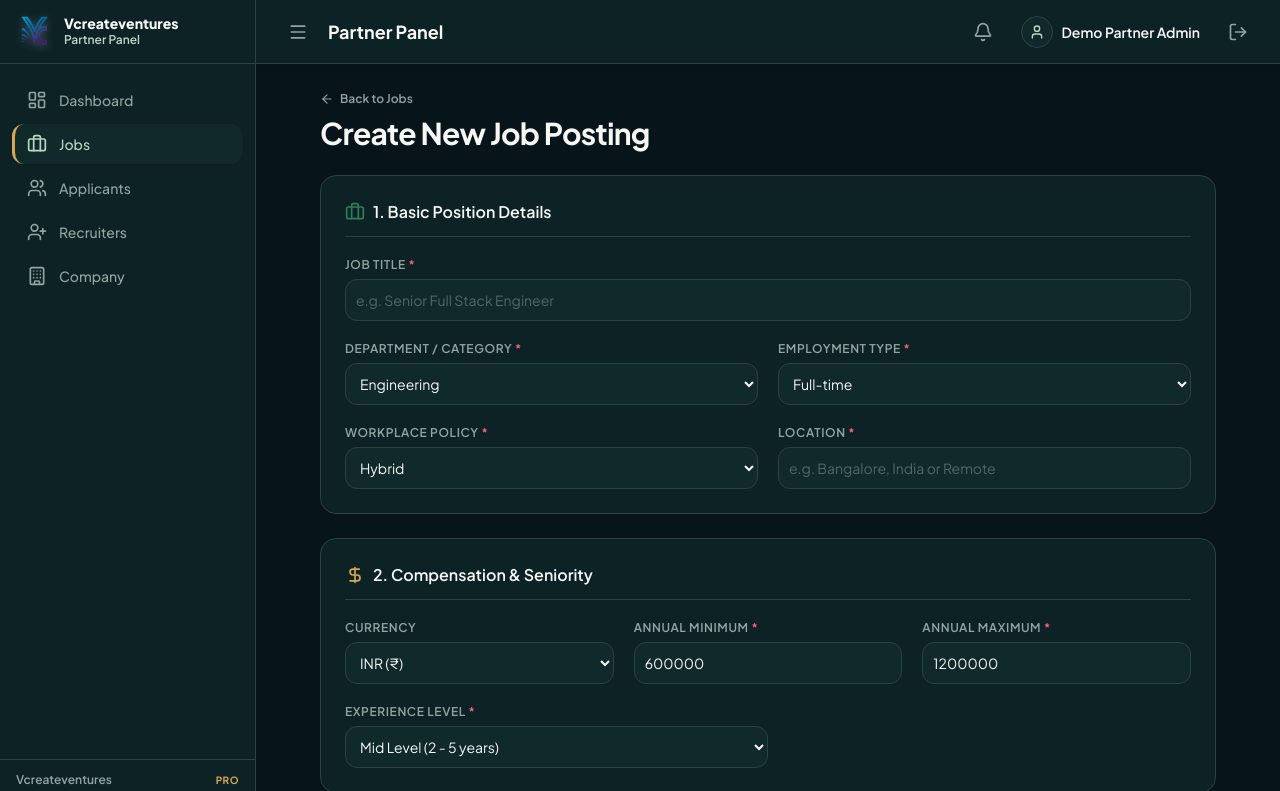
Test: routes rendering test › shows backend validation details when job creation fails
Type "Platform Engineer" into the field with placeholder "e.g. Senior Full Stack Engineer". click: (768, 300)
box: top-left (345, 279), bottom-right (1191, 321)
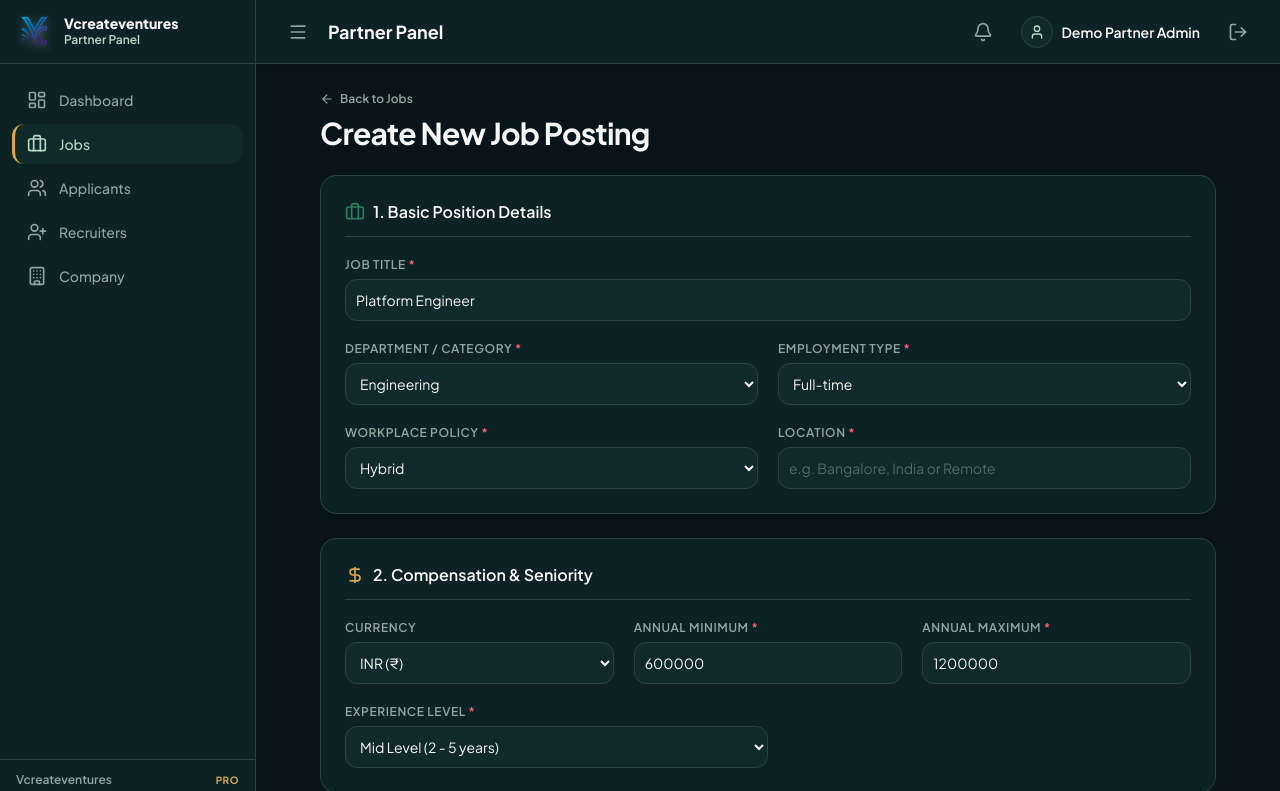
Type "Delhi" into the field with placeholder "e.g. Bangalore, India or Remote". click: (984, 468)
box: top-left (778, 447), bottom-right (1191, 489)
(page scrolled)
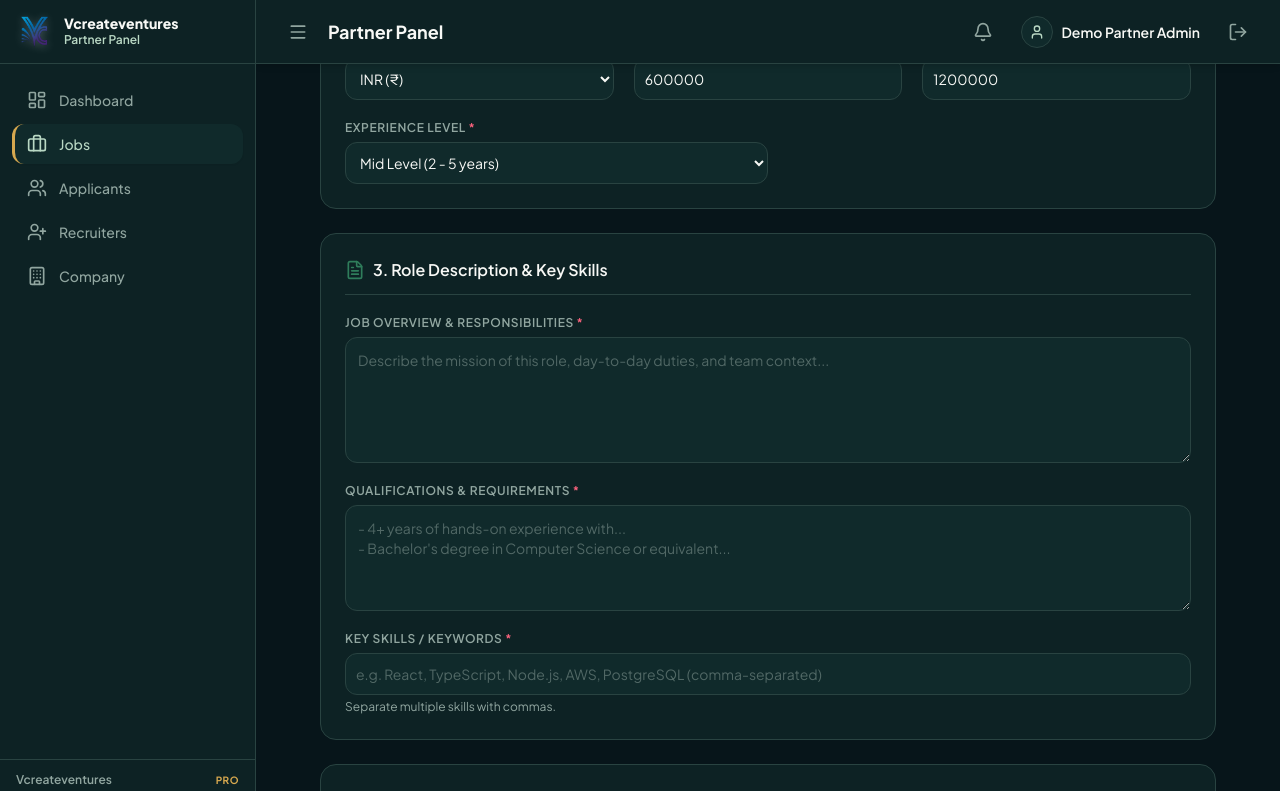
Replace the text in the text box with placeholder "Describe the mission of this role" with "Build and maintain platform services for customers.". click: (768, 400)
box: top-left (345, 337), bottom-right (1191, 463)
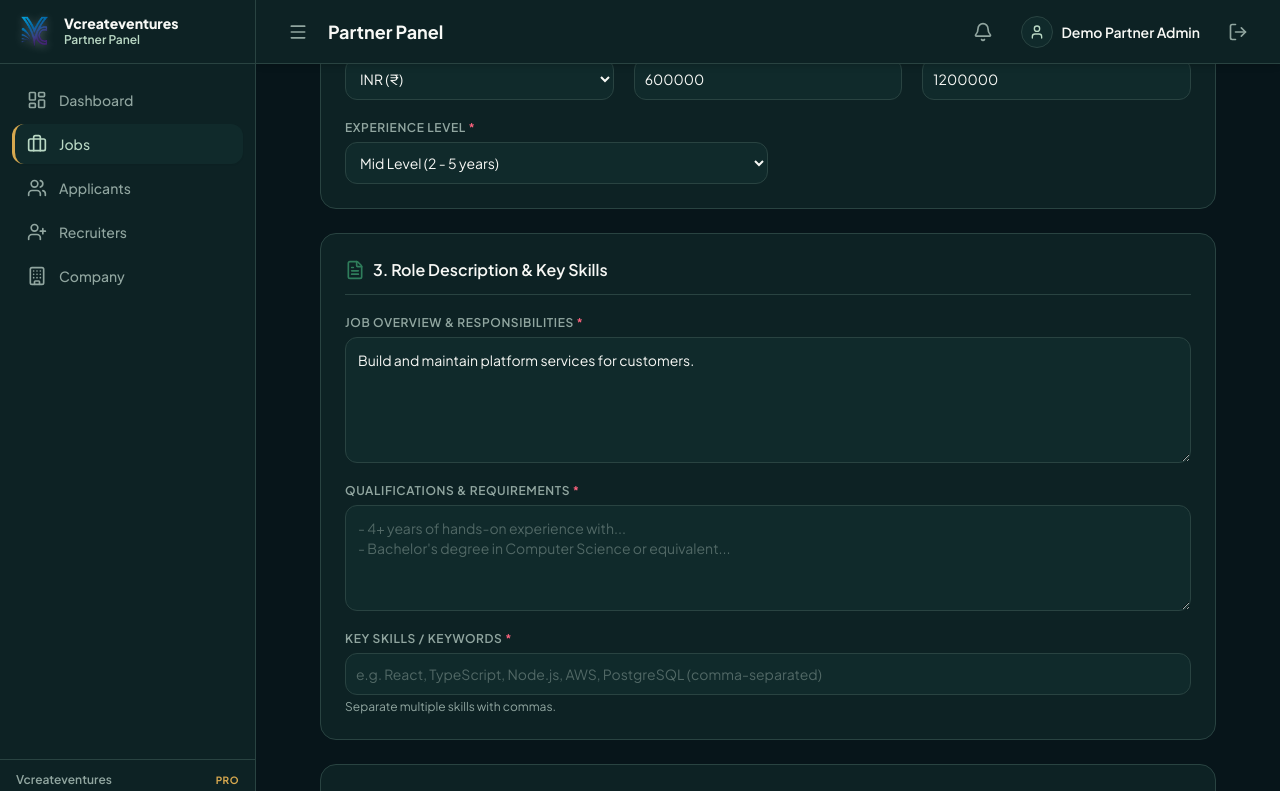
Replace the text in the text box with placeholder "4+ years of hands-on experience" with "Experience with production systems.". click: (768, 558)
box: top-left (345, 505), bottom-right (1191, 611)
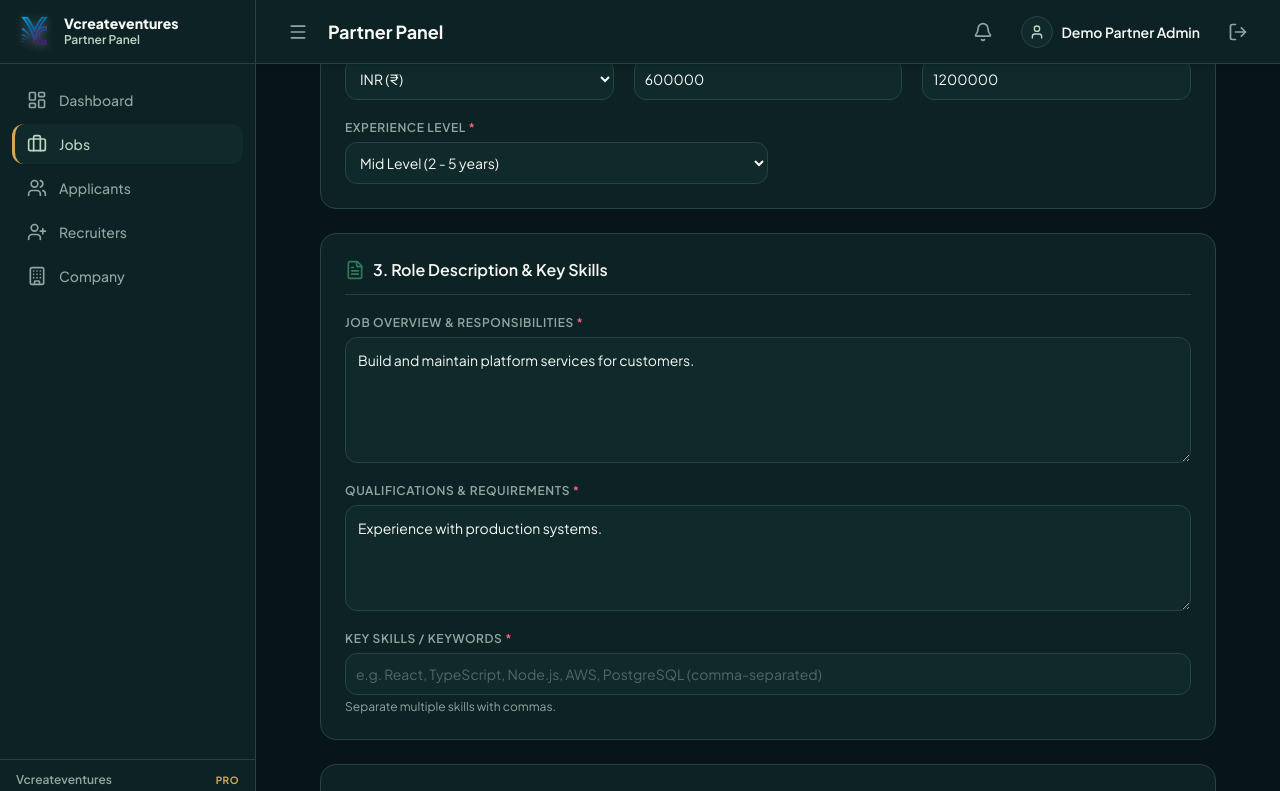
Replace the text in the field with placeholder "React, TypeScript" with "React, Laravel". click: (768, 674)
box: top-left (345, 653), bottom-right (1191, 695)
(page scrolled)
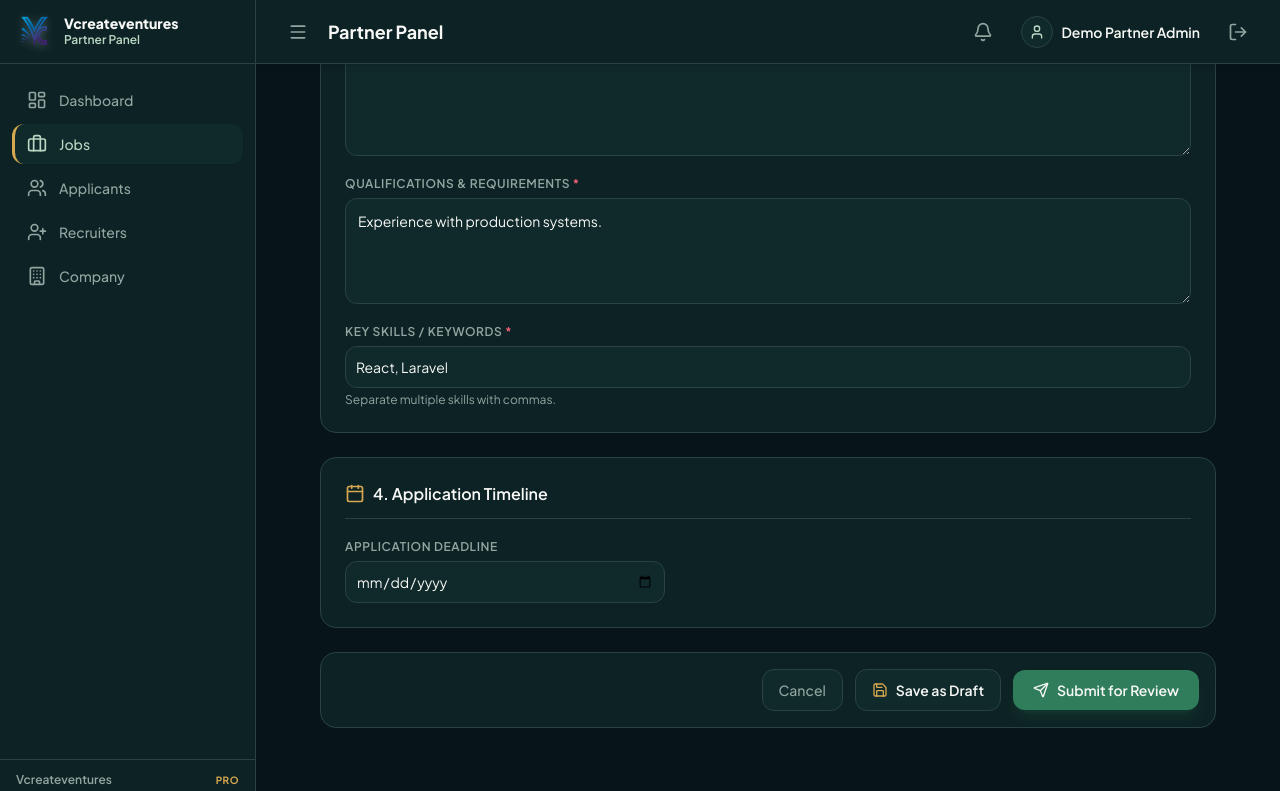
Click the button "Save as Draft". click: (928, 690)
box: top-left (855, 669), bottom-right (1001, 711)
(page scrolled)
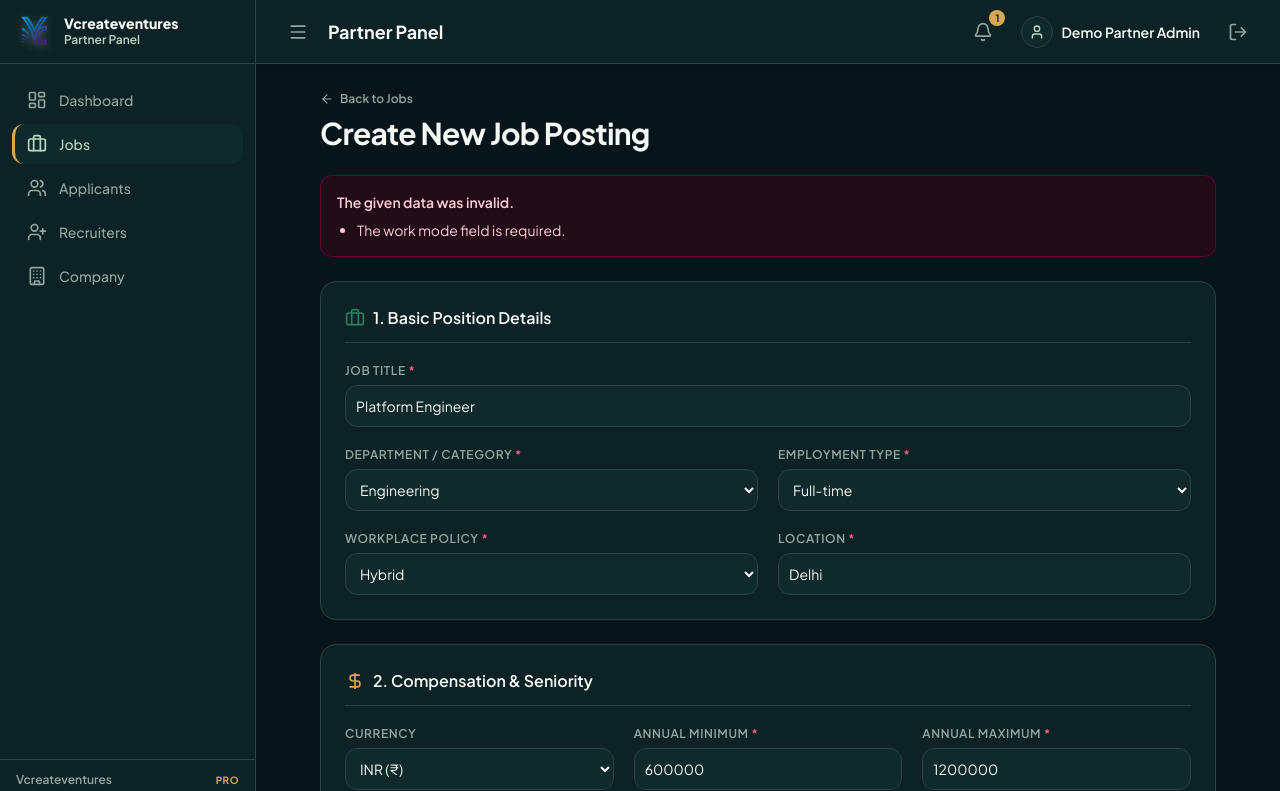
Expected: the message shows "The given data was invalid.", top-left (337, 193), bottom-right (514, 211)
Expected: the message shows "The work mode field is required.", top-left (357, 221), bottom-right (565, 239)
